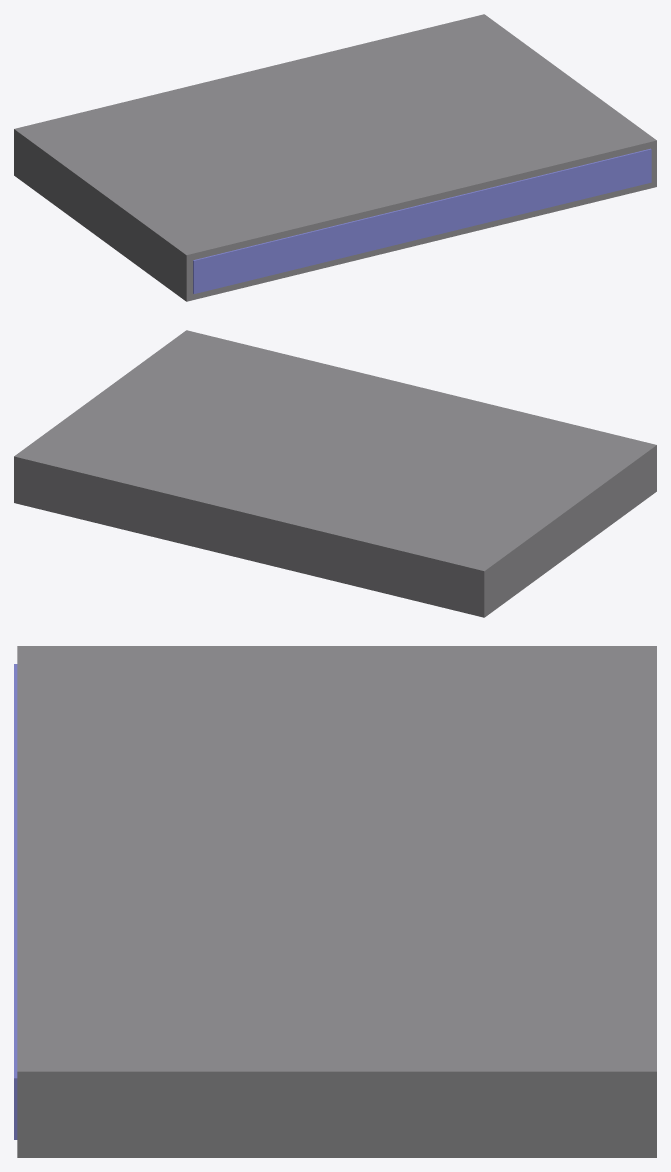
Rendered from Luna semisolid.fbx.
3 renders of one model, top to bottom at view 1: azimuth 30°, elevation 25°; view 2: azimuth 150°, elevation 25°; view 3: azimuth 270°, elevation 25°, orthographic. The views are drawn at different scales.
Parts seen in each view (by area): view 1: Luna stage semisolid; view 2: Luna stage semisolid; view 3: Luna stage semisolid.
Part boxes in pixels (left/top/right/bottom): Luna stage semisolid: left=14, top=14, right=656, bottom=301; Luna stage semisolid: left=14, top=330, right=656, bottom=617; Luna stage semisolid: left=14, top=646, right=656, bottom=1157.
Size of the model in its own units: 740 by 70 by 472.
